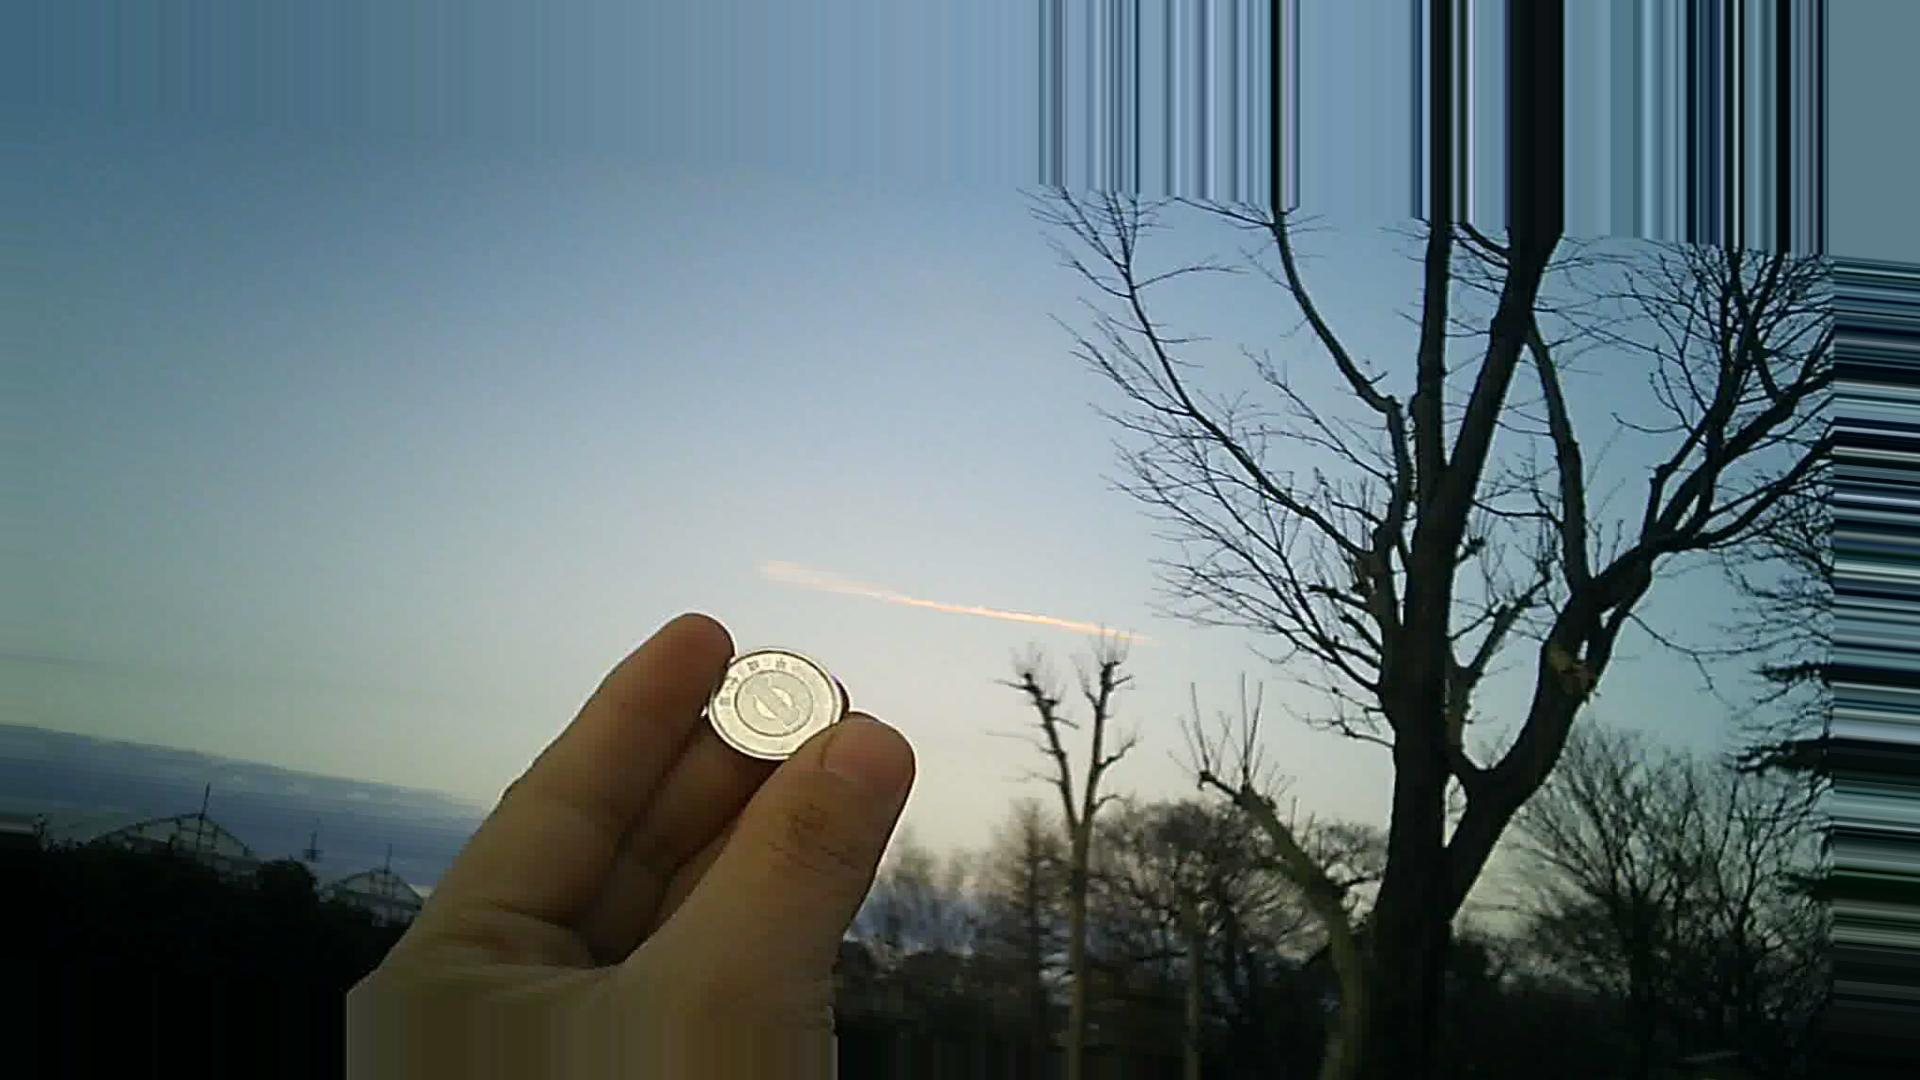1 Yen: (705, 638, 861, 761)
